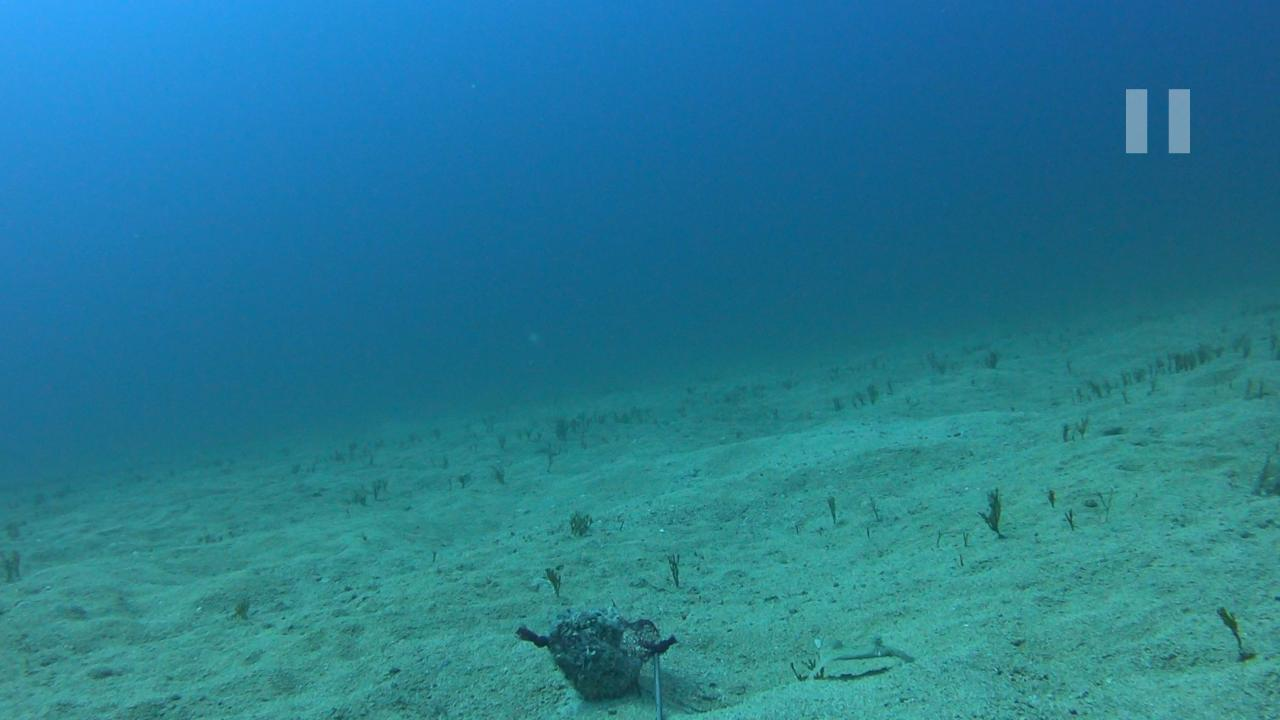bothus: (800, 626, 922, 681)
